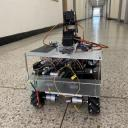cart: (23, 42, 103, 116)
